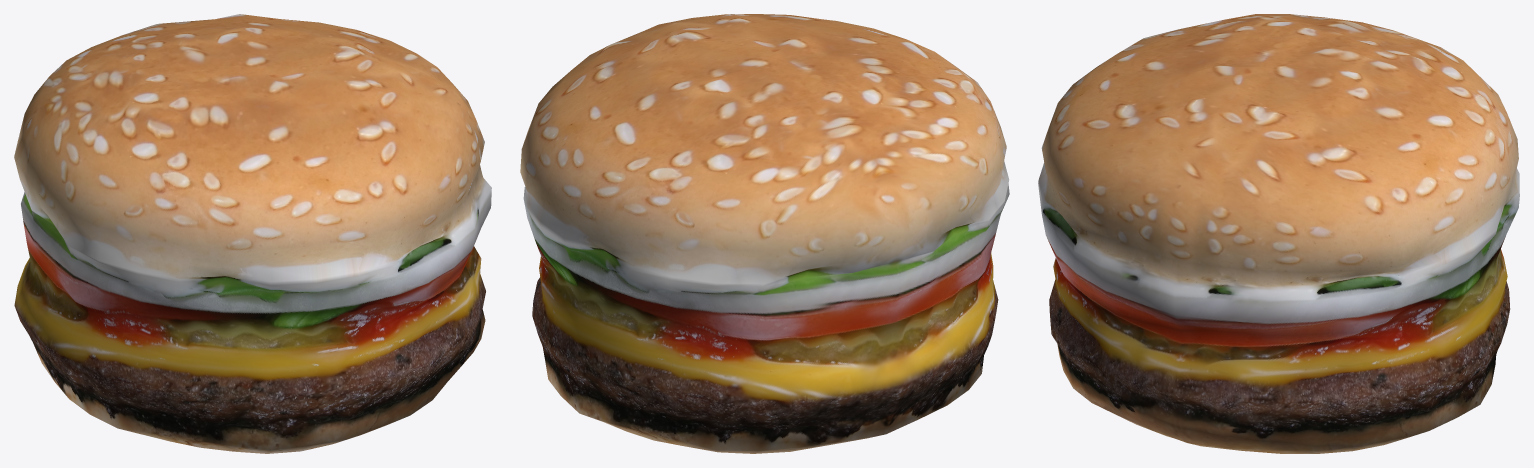
3 renders of one model, left to right at view 1: azimuth 30°, elevation 25°; view 2: azimuth 150°, elevation 25°; view 3: azimuth 270°, elevation 25°, orthographic.
Parts seen in each view (by area): view 1: BurgerLR; view 2: BurgerLR; view 3: BurgerLR.
Part boxes in pixels (bbox=[...]): BurgerLR: bbox=[14, 14, 491, 453]; BurgerLR: bbox=[520, 14, 1009, 453]; BurgerLR: bbox=[1038, 14, 1519, 453].
Size of the model in its own units: 235 by 184 by 238.
1 material, 1 textured.
